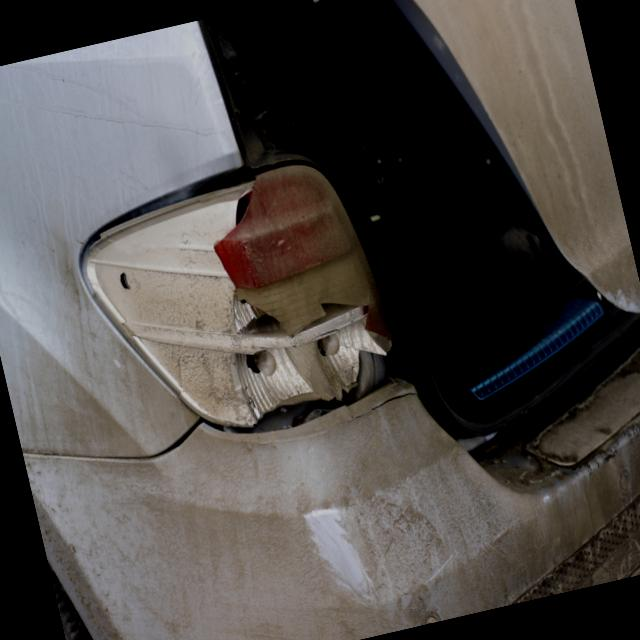Phare abime: (61, 139, 413, 466)
